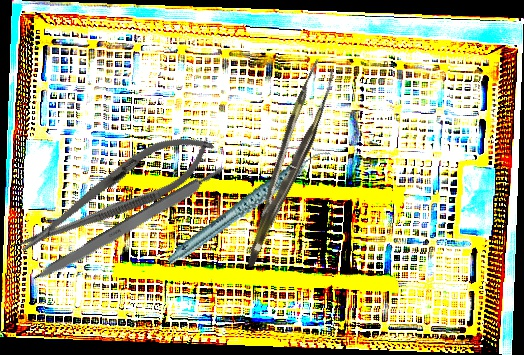Handpiece: (151, 147, 347, 265)
Needle Holder: (7, 117, 224, 270)
Scalpel Handle: (30, 163, 230, 288)
Tissue Forceps: (222, 57, 348, 268)
